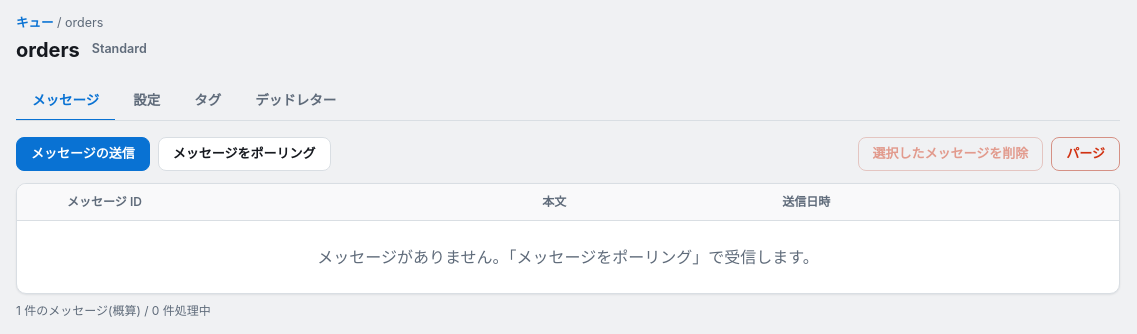
it: QueueDetailPage › deletes the selected message via its receipt handle
Click the button with test id "queue-poll". click: (244, 154)
box: [158, 137, 331, 170]
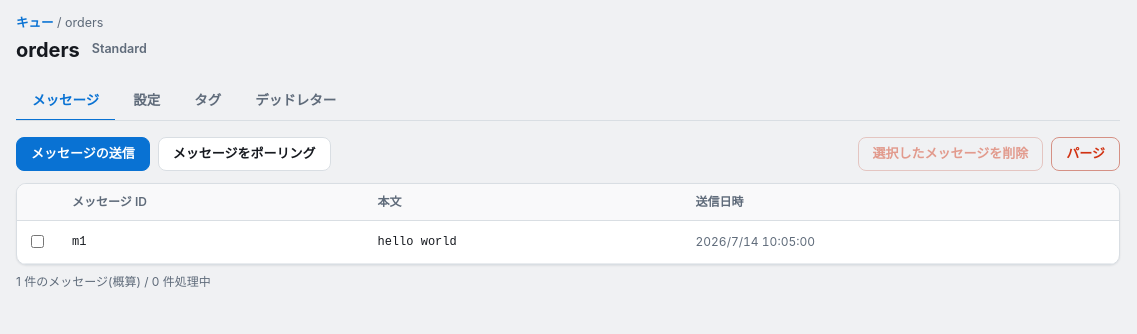
Result: the row with test id "msg-row-m1" is shown at [17, 220, 1119, 263]
Click the checkbox named "m1 を選択". click: (38, 241)
box: [31, 234, 44, 248]
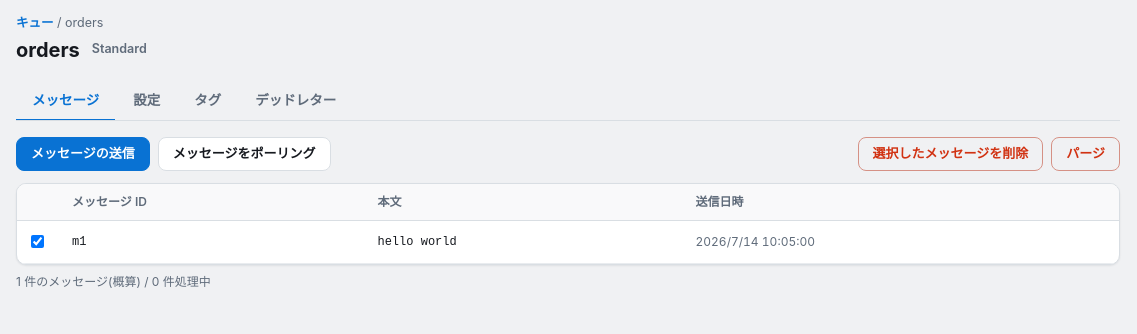
Click the button with test id "msg-delete". click: (950, 154)
box: [858, 137, 1043, 170]
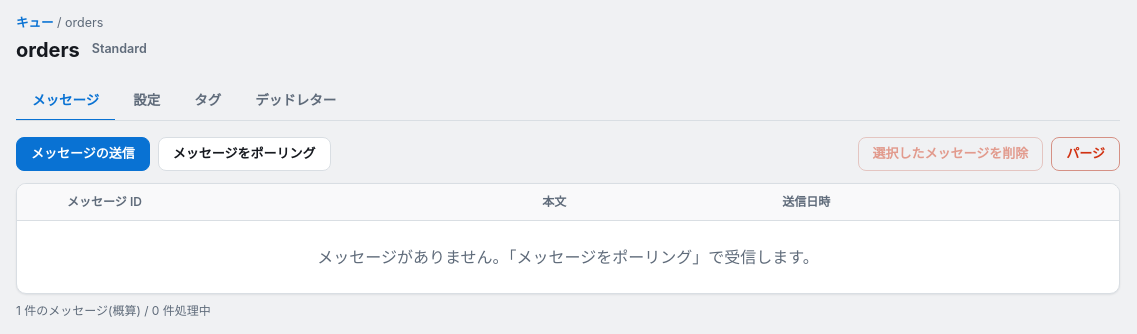
Result: the row with test id "msg-row-m1" is gone
